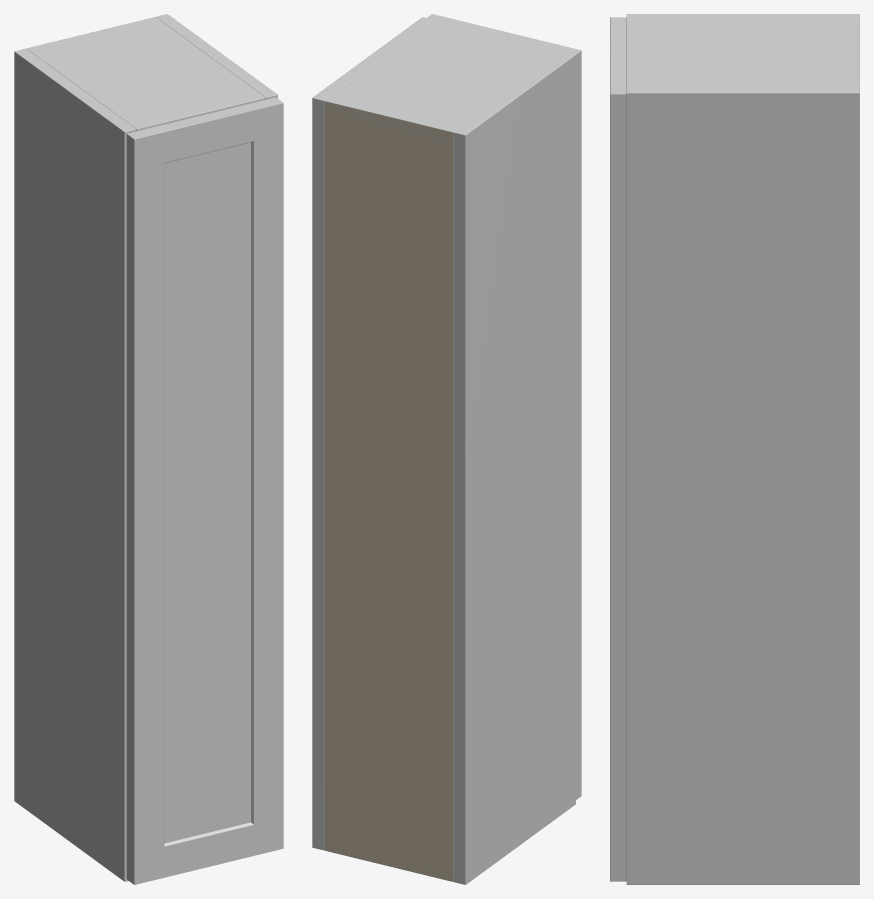
File: PLY-WSS-W0942.glb
The picture shows the model from 3 angles, left to right: view 1: azimuth 30°, elevation 25°; view 2: azimuth 150°, elevation 25°; view 3: azimuth 270°, elevation 25°; orthographic projection. The views are drawn at different scales.
Parts seen in each view (by area): view 1: Shaker door, Carcass left, Carcass top, Carcass right; view 2: Carcass back, Carcass left, Carcass top, Carcass right, Shaker door, Carcass bottom; view 3: Carcass right, Carcass top, Shaker door, Carcass left.
Boxes of the visible parts, x1=… form: Shaker door: x1=126, y1=97, x2=283, y2=884; Carcass left: x1=14, y1=48, x2=136, y2=881; Carcass top: x1=26, y1=17, x2=265, y2=131; Carcass right: x1=156, y1=14, x2=277, y2=99; Carcass back: x1=324, y1=101, x2=453, y2=881; Carcass left: x1=453, y1=51, x2=575, y2=884; Carcass top: x1=324, y1=20, x2=563, y2=143; Carcass right: x1=312, y1=17, x2=433, y2=850; Shaker door: x1=427, y1=14, x2=581, y2=799; Carcass bottom: x1=324, y1=839, x2=453, y2=881; Carcass right: x1=626, y1=87, x2=859, y2=884; Carcass top: x1=626, y1=20, x2=859, y2=86; Shaker door: x1=610, y1=17, x2=626, y2=881; Carcass left: x1=626, y1=14, x2=859, y2=20.
Bounding box in the file's own units: 0.2286 × 1.07 × 0.3048.
